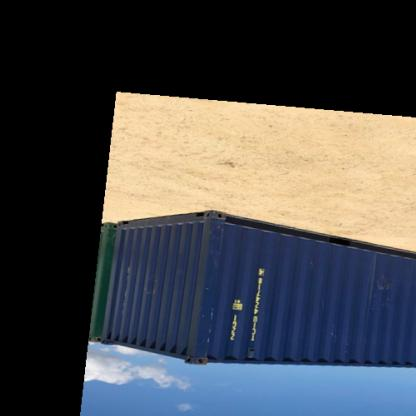Damage: (180, 226, 224, 368), (361, 269, 394, 314), (320, 305, 352, 351)
